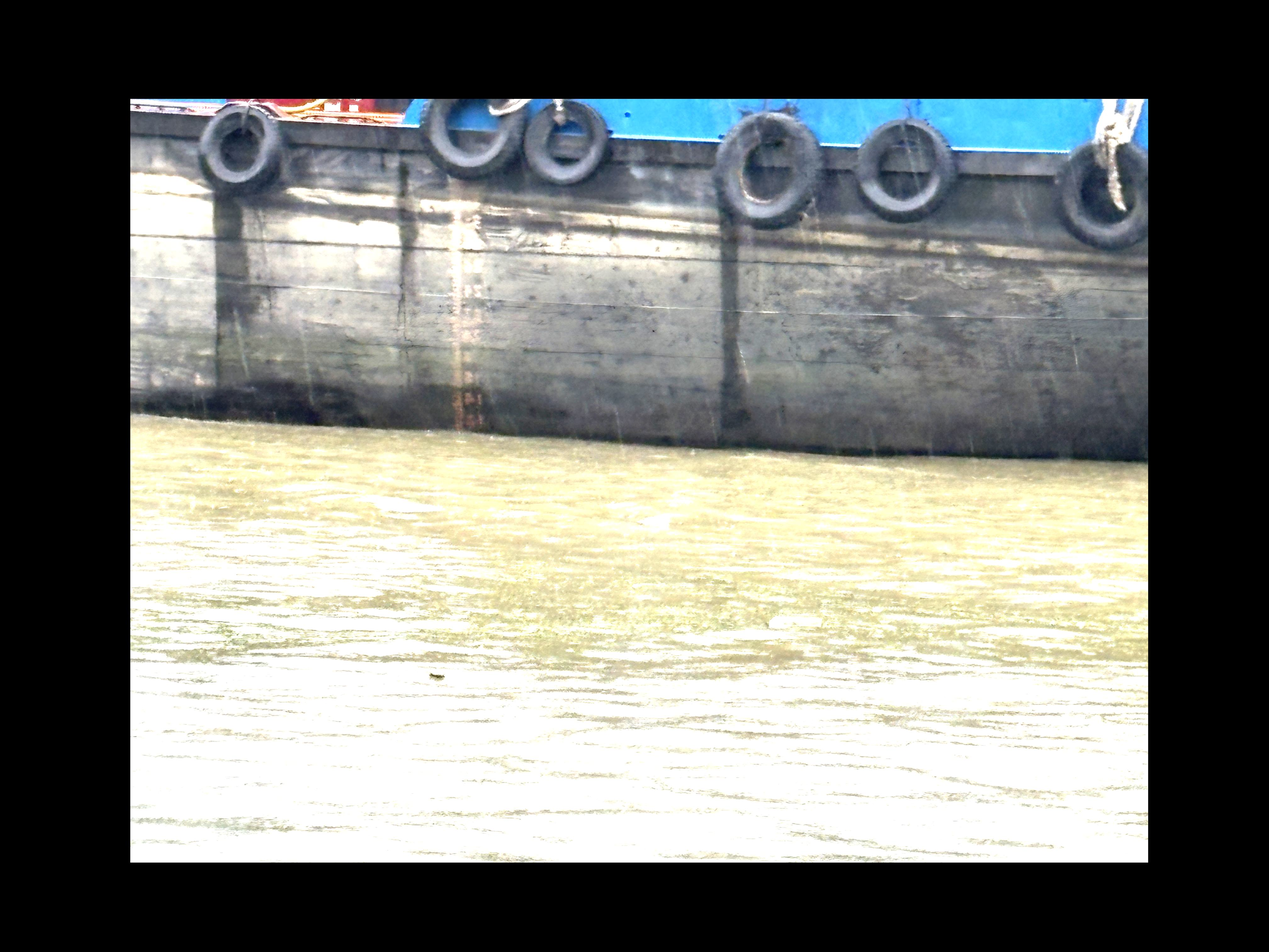Plastic wastes: (766, 615, 821, 633), (638, 515, 671, 526), (429, 667, 448, 678)
